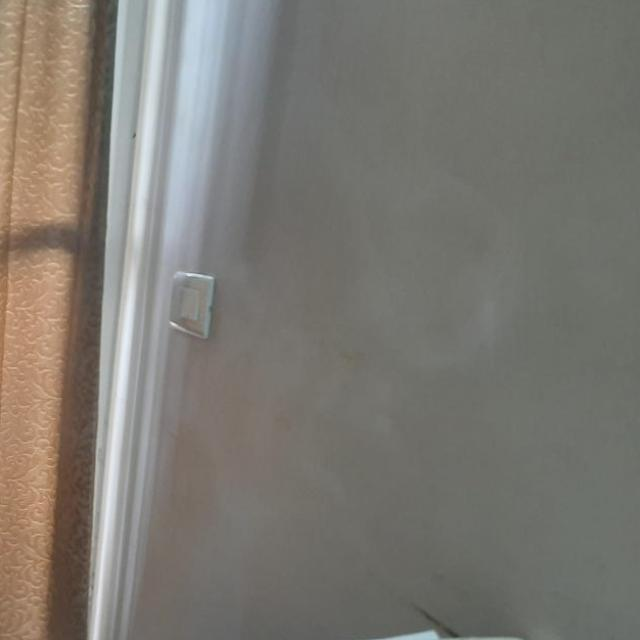fire: (272, 144, 537, 511)
